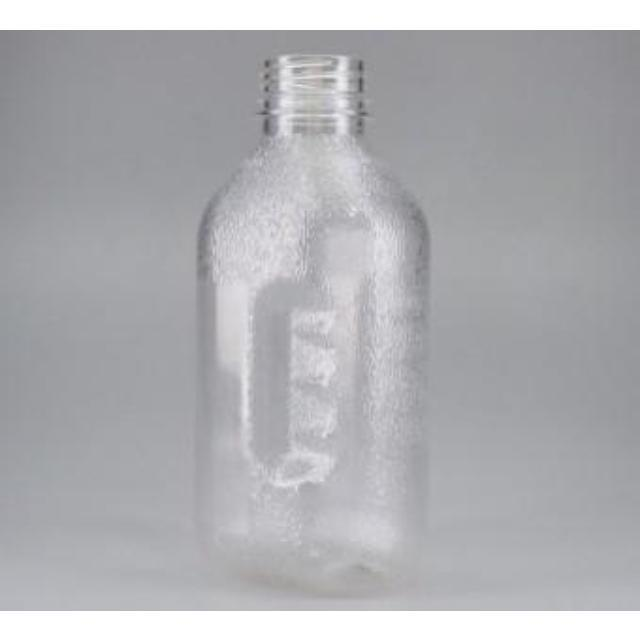Botella de plastico: (195, 50, 433, 602)
